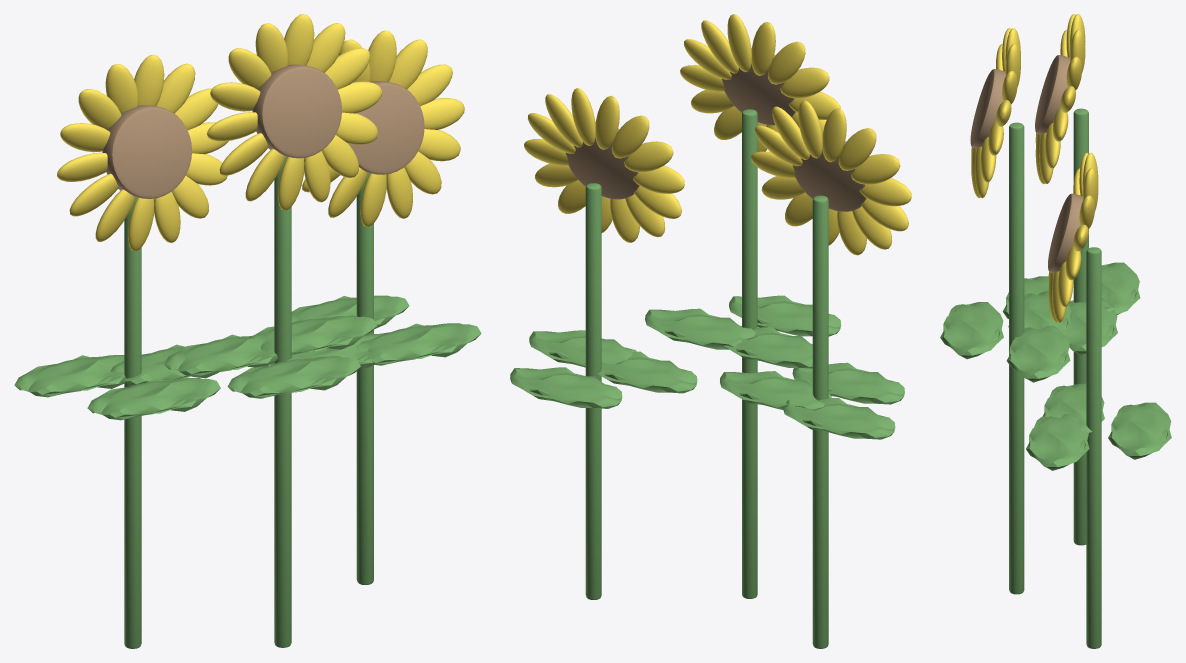
The model's file is himawari.glb.
3 views of the same model, side by side, from view 1: azimuth 30°, elevation 25°; view 2: azimuth 150°, elevation 25°; view 3: azimuth 270°, elevation 25° (orthographic). The views are drawn at different scales.
Parts seen in each view (by area): view 1: himawari; view 2: himawari; view 3: himawari.
Part boxes in pixels (left/top/right/bottom): himawari: left=14, top=14, right=481, bottom=648; himawari: left=510, top=14, right=911, bottom=648; himawari: left=940, top=14, right=1171, bottom=648.
Size of the model in its own units: 1.69 by 2.38 by 0.8985.
